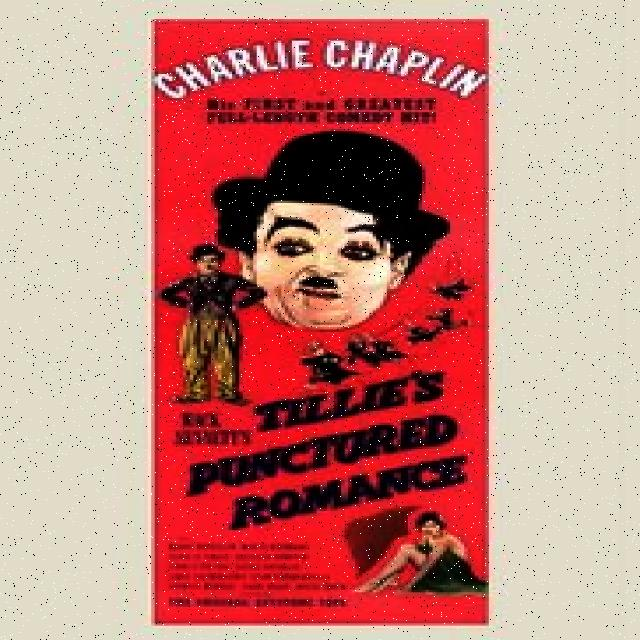movie-judul: (188, 370, 479, 528)
picture: (160, 128, 453, 404)
